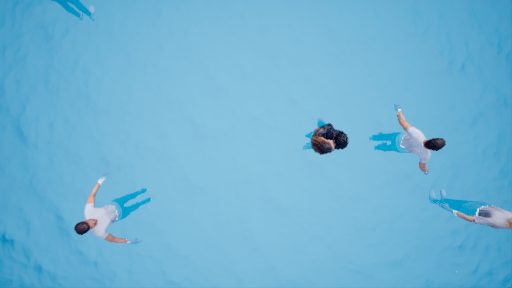person: (65, 175, 164, 246), (367, 100, 447, 177), (423, 182, 512, 235), (300, 116, 350, 156)
